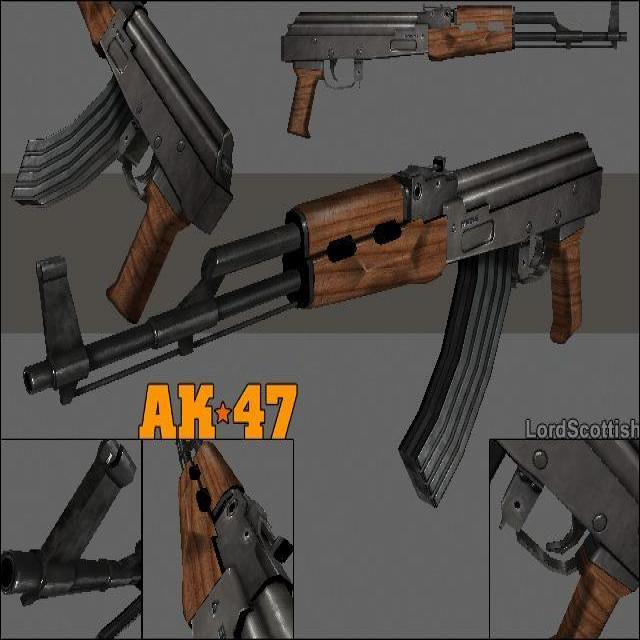Gun: (15, 129, 617, 378)
